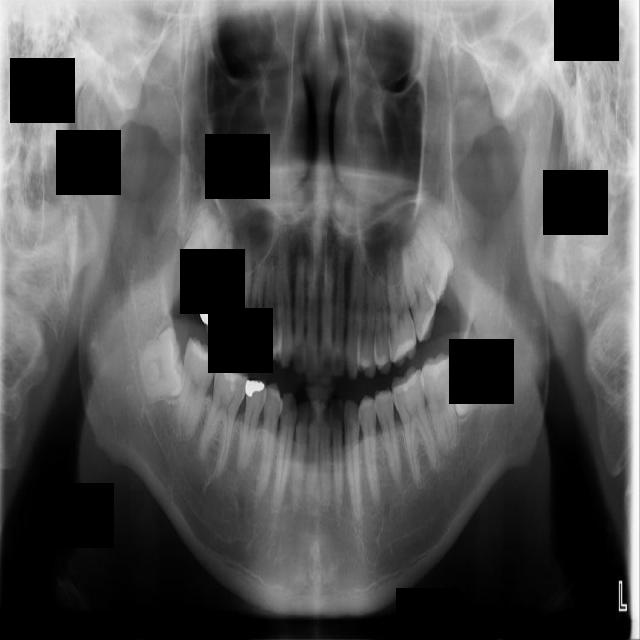3M ESPE Implant: (169, 205, 229, 302)
52: (382, 363, 438, 422), (202, 353, 259, 409), (194, 271, 230, 338), (385, 311, 420, 369), (219, 300, 254, 354), (410, 280, 438, 343), (243, 379, 267, 420)
73: (599, 567, 603, 571)
BioHorizons Implant: (394, 237, 445, 344)
BioLife Implant: (402, 207, 466, 307)
Biomet 3i Implant: (444, 334, 503, 421)
Blue Sky Bio Implant: (418, 351, 462, 459)
Caries: (193, 212, 242, 339)
Implant: (172, 336, 221, 442)
Keystone Dental Implant: (131, 326, 191, 403)
